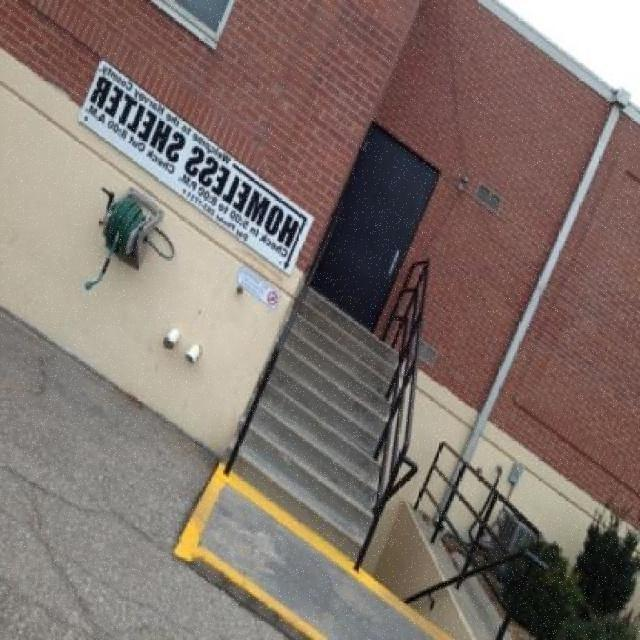stair: (220, 276, 404, 568)
